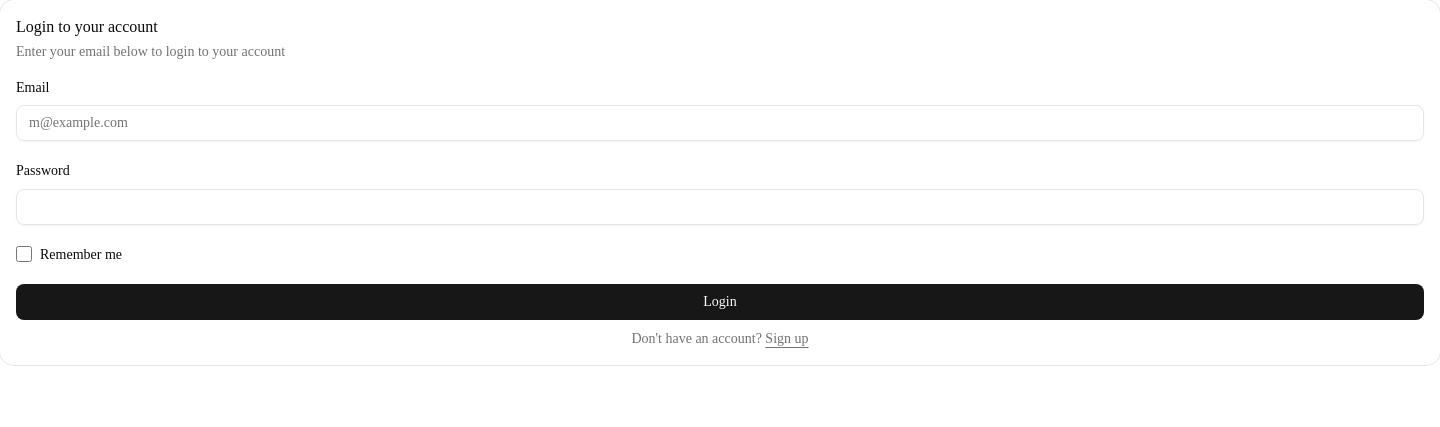
Test case: auth forms › shows the generic login error returned by the API
Type "jane@example.com" into the field labelled "Email" at (720,123), box x1=16 y1=105 x2=1424 y2=141
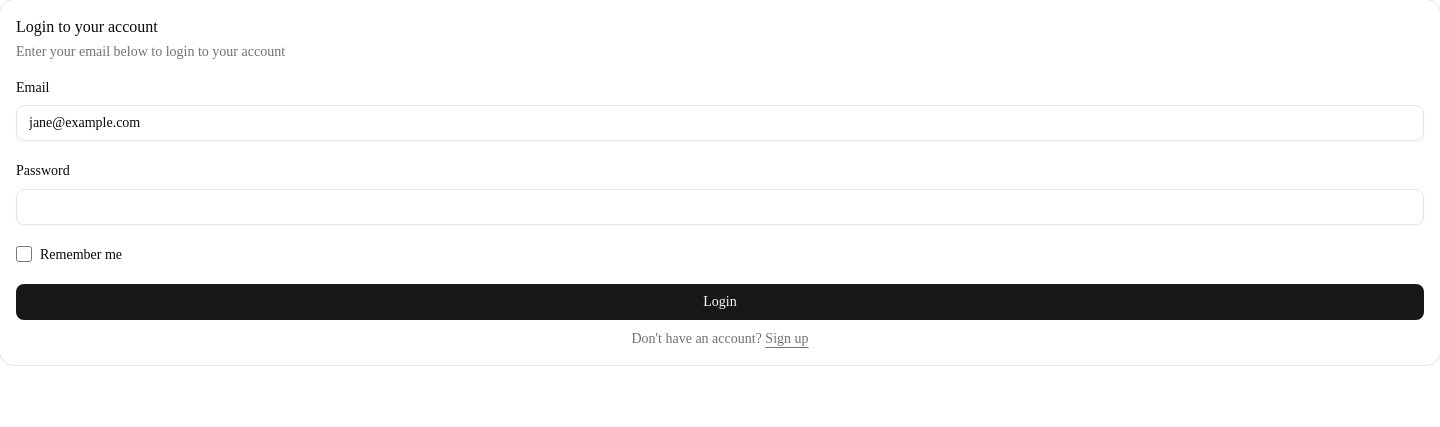
Type "wrong" into the password field labelled "Password" at (720,206), box x1=16 y1=188 x2=1424 y2=224
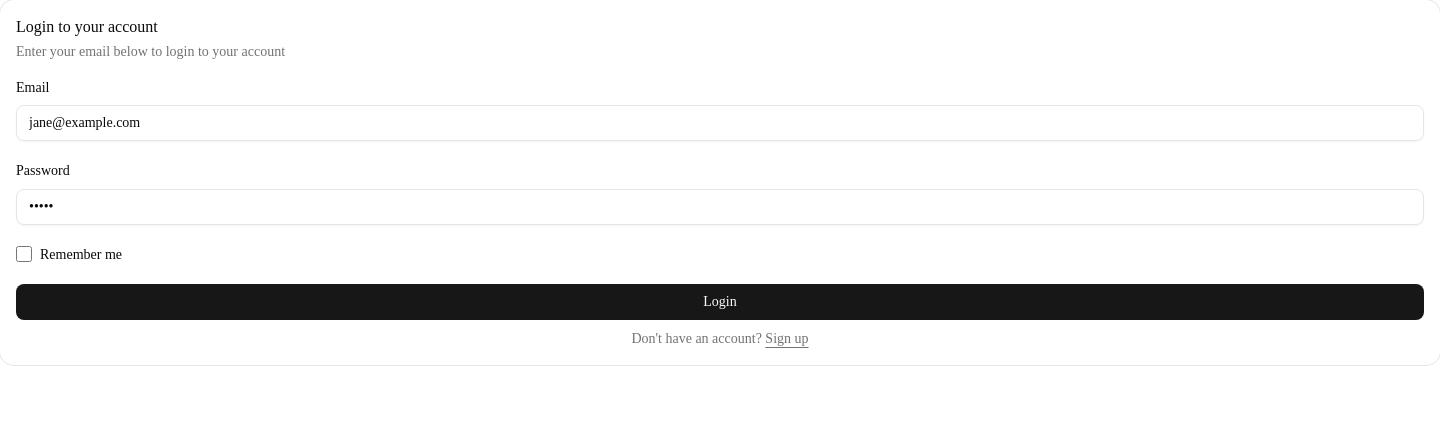
Click the button "Login" at (720,302), box x1=16 y1=284 x2=1424 y2=320
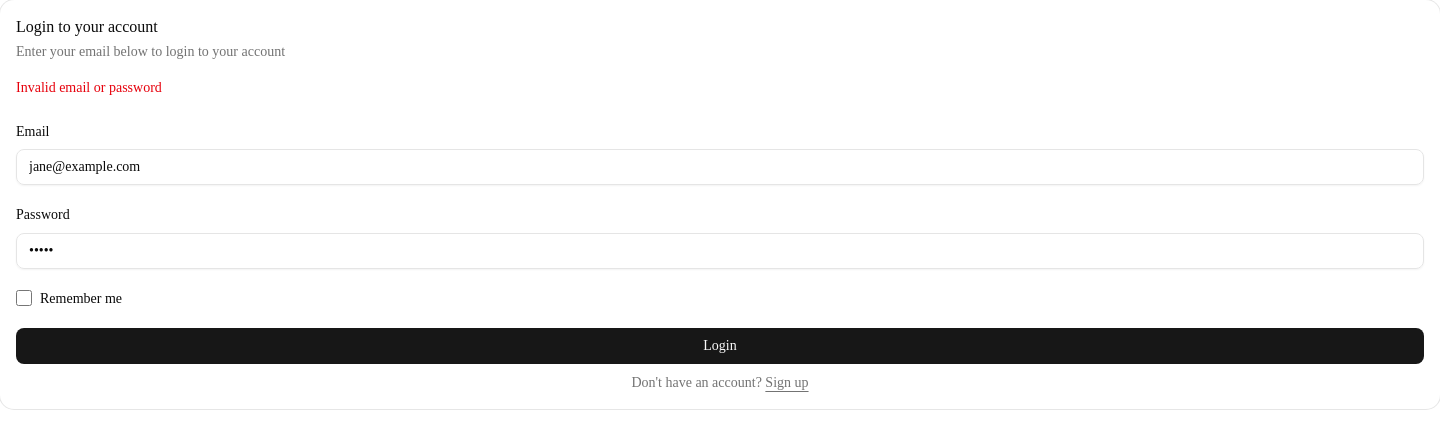
Check: the text "Invalid email or password" is shown, box x1=16 y1=80 x2=162 y2=95
